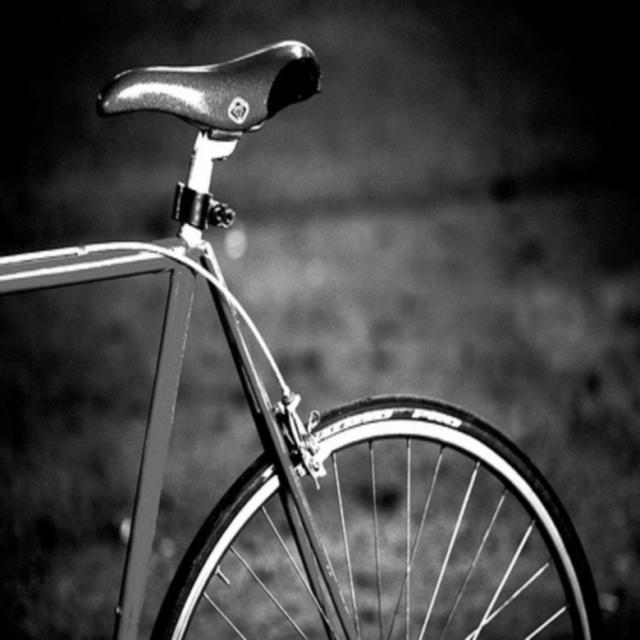bicycle: (0, 39, 602, 638)
